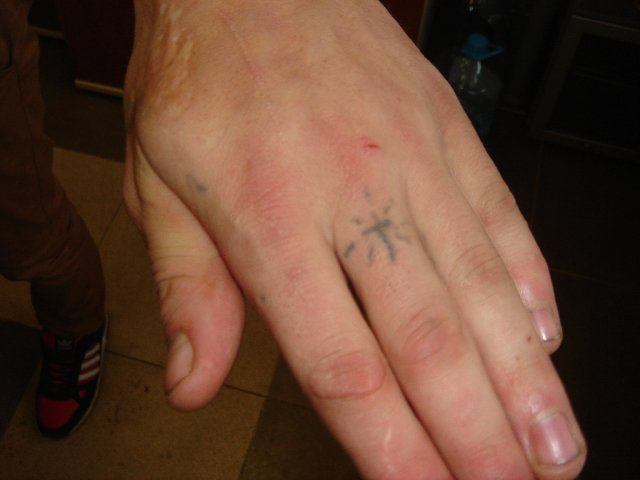tatu9_krest: (351, 200, 415, 268)
